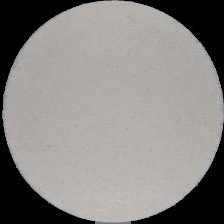0781-1182: (0, 0, 224, 224)
